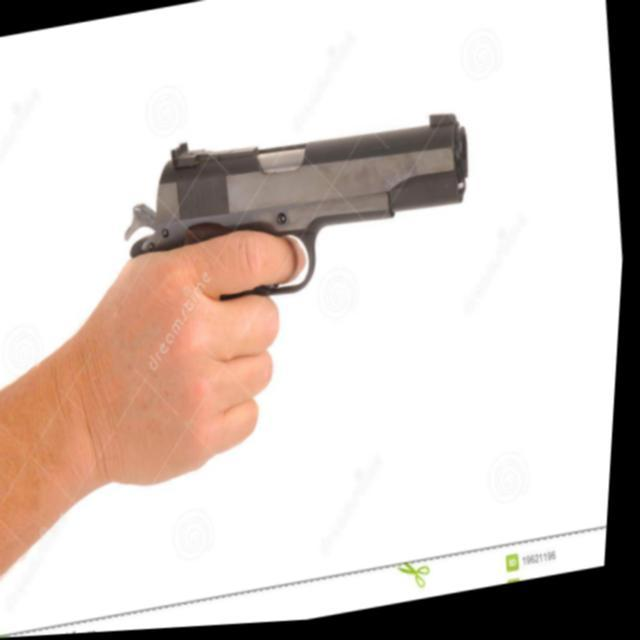weapon: (98, 84, 515, 495)
